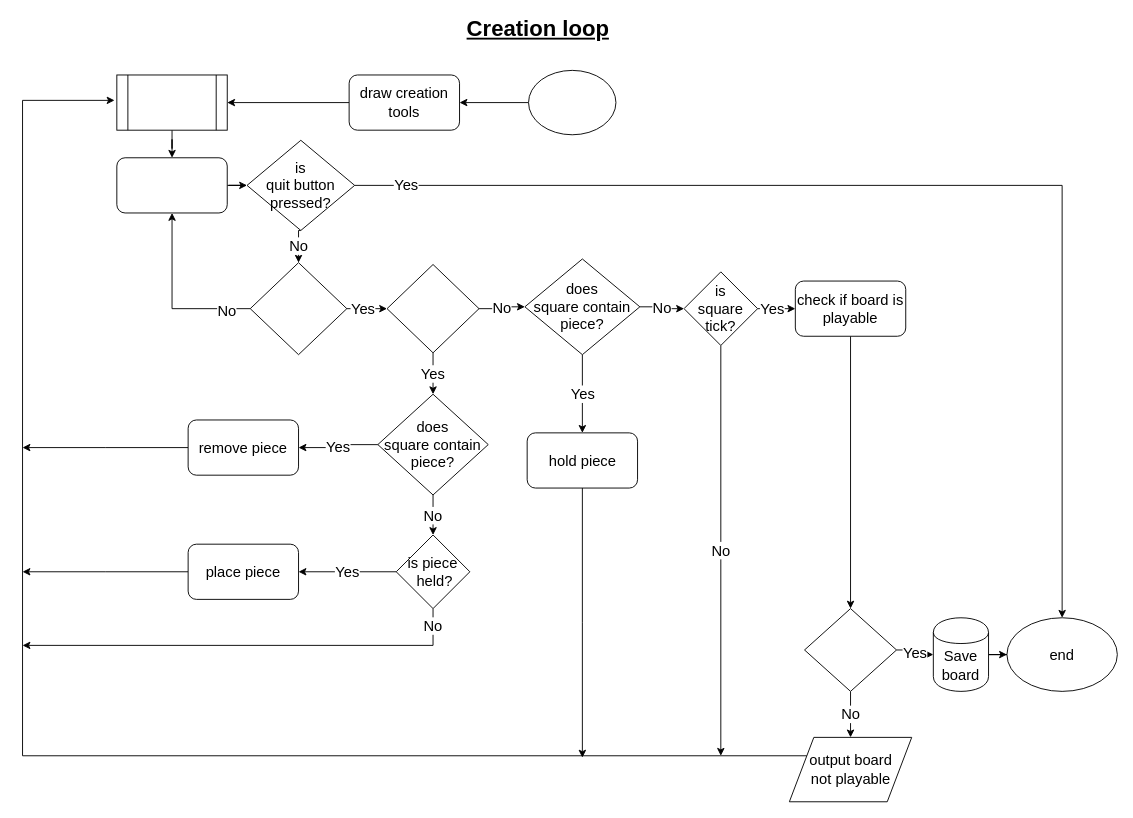
Image size: 1133x818. Some labels were removed from this diagram. The shapes that lost their labels are listed below. From the top down, each one's centre as x and y in pixels, then its label:
At (x=171, y=102): "draw board".
At (x=572, y=102): "start".
At (x=171, y=185): "wait for event".
At (x=298, y=308): "is square pressed?".
At (x=432, y=308): "Is square on board?".
At (x=850, y=649): "is board playable?".
